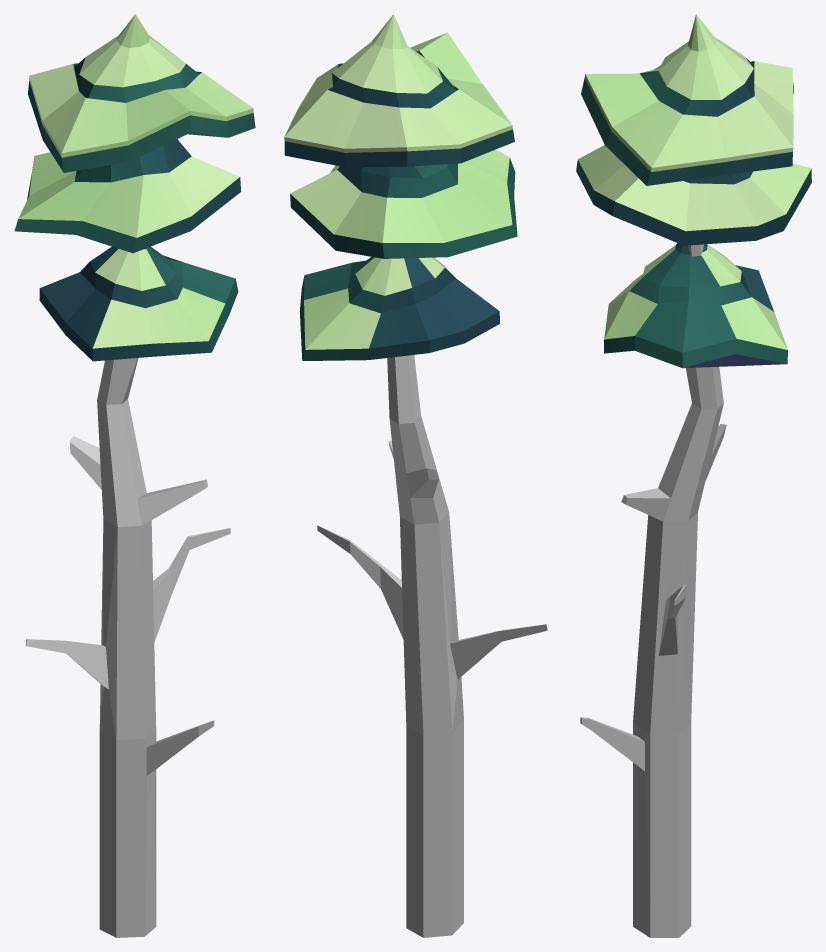
File: Tree_Snow02.fbx
3 views of the same model, side by side, from view 1: azimuth 30°, elevation 25°; view 2: azimuth 150°, elevation 25°; view 3: azimuth 270°, elevation 25° (orthographic). The views are drawn at different scales.
Visible parts, largest first — view 1: TolSnowTree2; view 2: TolSnowTree2; view 3: TolSnowTree2.
Part boxes in pixels (x1,y1,x2,y2): TolSnowTree2: [14, 14, 255, 937]; TolSnowTree2: [284, 14, 547, 937]; TolSnowTree2: [576, 14, 811, 937].
Bounding box in the file's own units: 154 × 584 × 135.
